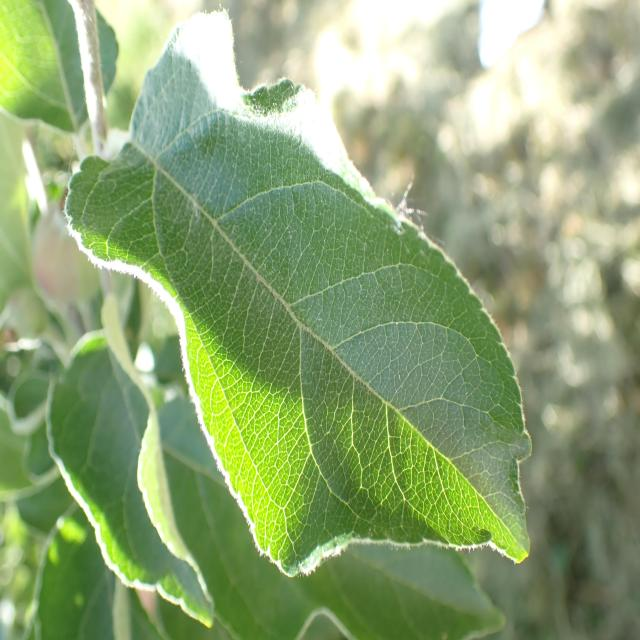healthy: (63, 6, 534, 578), (149, 389, 507, 640), (46, 330, 216, 628), (0, 0, 119, 135), (24, 510, 114, 640)
